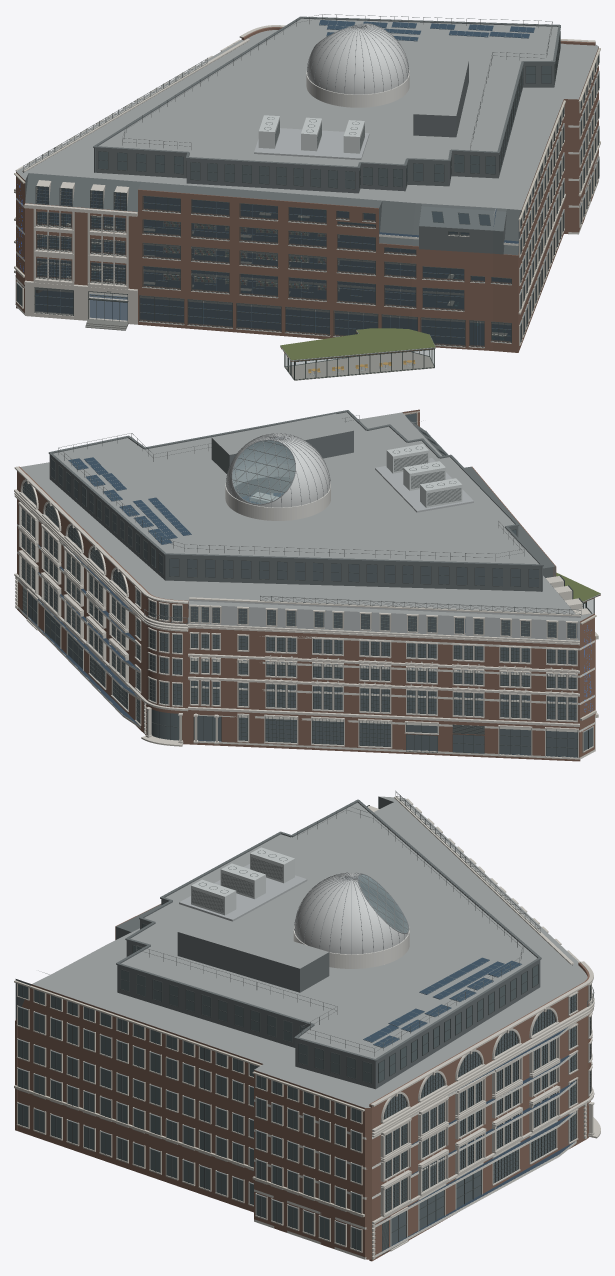
The model's file is lrb-exterior-9be983a1c861.glb.
The picture shows the model from 3 angles, top to bottom: view 1: azimuth 30°, elevation 25°; view 2: azimuth 150°, elevation 25°; view 3: azimuth 270°, elevation 25°; orthographic projection. The views are drawn at different scales.
Parts seen in each view (by area): view 1: LRB.001; view 2: LRB.001; view 3: LRB.001.
Part boxes in pixels (left/top/right/bottom): LRB.001: left=14, top=14, right=600, bottom=380; LRB.001: left=14, top=409, right=600, bottom=761; LRB.001: left=14, top=790, right=600, bottom=1261.
Size of the model in its own units: 89.65 by 33.13 by 70.94.
